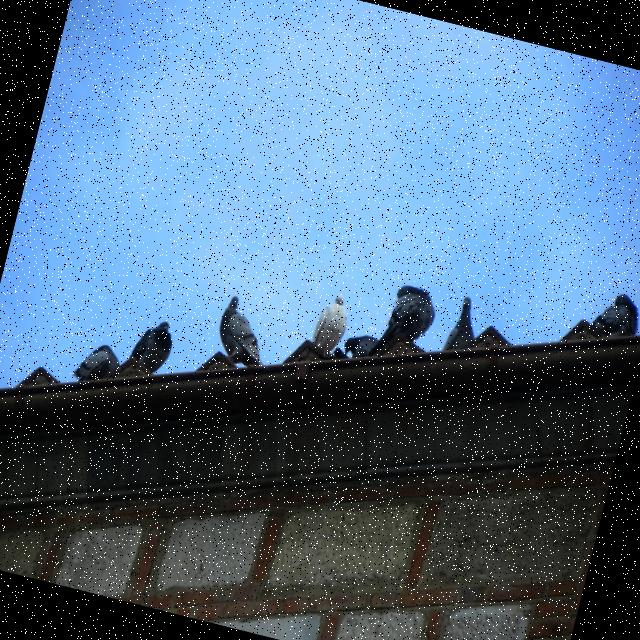bird: (339, 272, 442, 376), (557, 279, 640, 361), (208, 292, 278, 375), (123, 312, 179, 380), (306, 289, 354, 361), (440, 292, 485, 359), (70, 337, 124, 392), (280, 334, 333, 376), (464, 320, 516, 361)
